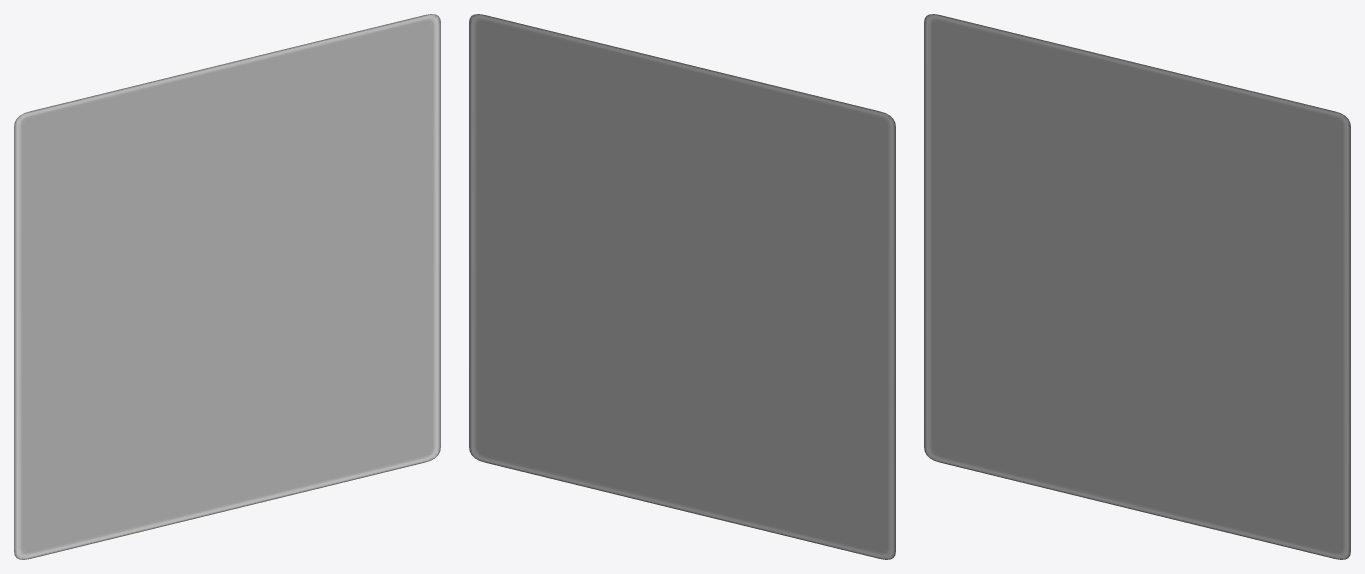
Rendered from Highlight_Slot_Active.fbx.
3 views of the same model, side by side, from view 1: azimuth 30°, elevation 25°; view 2: azimuth 150°, elevation 25°; view 3: azimuth 330°, elevation 25° (orthographic).
Visible parts, largest first — view 1: Highlight_Slot_Active; view 2: Highlight_Slot_Active; view 3: Highlight_Slot_Active.
Part boxes in pixels (x1,y1,x2,y2): Highlight_Slot_Active: (14,14,440,559); Highlight_Slot_Active: (469,14,895,559); Highlight_Slot_Active: (924,14,1350,559).
Bounding box in the file's own units: 6.4 × 6.41 × 1.45e-06.
